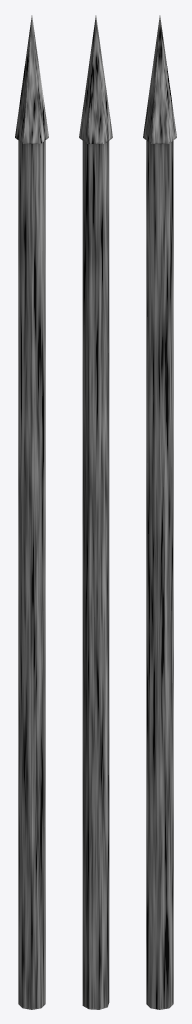
The model's file is spear.glb.
3 renders of one model, left to right at view 1: azimuth 90°, elevation 25°; view 2: azimuth 150°, elevation 25°; view 3: azimuth 270°, elevation 25°, orthographic.
Visible parts, largest first — view 1: spear; view 2: spear; view 3: spear.
Part boxes in pixels (x1,y1,x2,y2): spear: [15, 15, 48, 1009]; spear: [79, 15, 112, 1009]; spear: [143, 15, 176, 1009].
Bounding box in the file's own units: 0.0433 × 1.6 × 0.05.
Materials: 1 (1 with a texture image).
